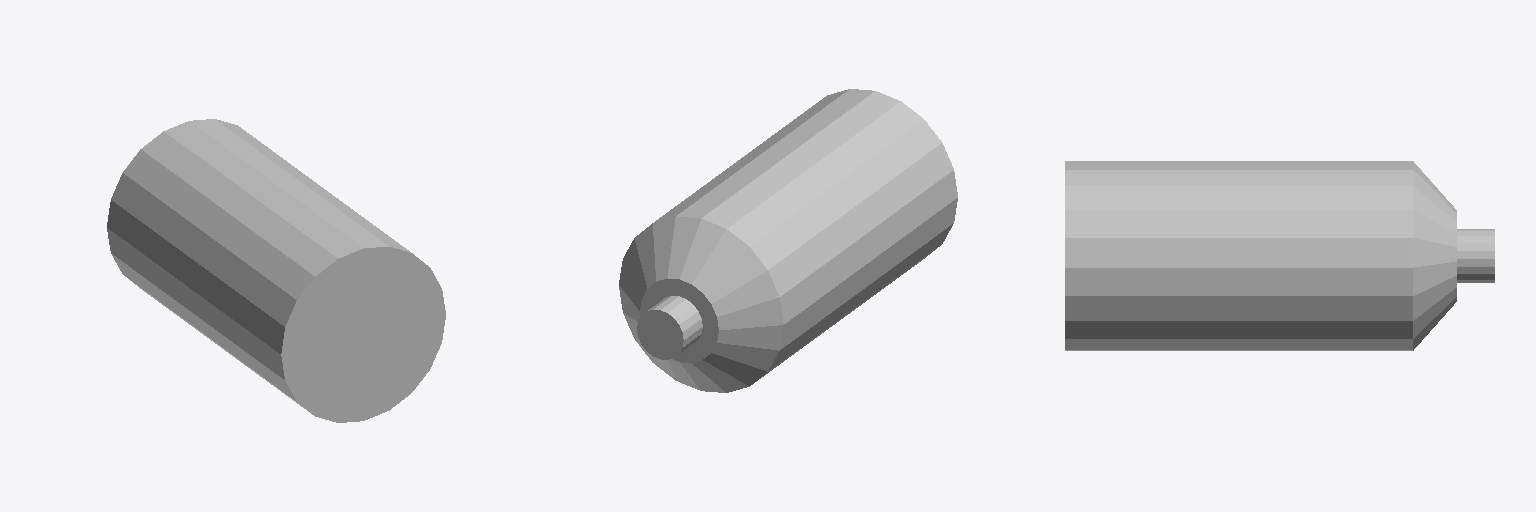
The model's file is SprayCan.obj.
3 renders of one model, left to right at view 1: azimuth 30°, elevation 25°; view 2: azimuth 150°, elevation 25°; view 3: azimuth 270°, elevation 25°, orthographic.
Parts seen in each view (by area): view 1: SprayCan1:headusOBJexport; view 2: SprayCan1:headusOBJexport; view 3: SprayCan1:headusOBJexport.
Part boxes in pixels (left/top/right/bottom): SprayCan1:headusOBJexport: left=107, top=119, right=445, bottom=422; SprayCan1:headusOBJexport: left=619, top=89, right=957, bottom=392; SprayCan1:headusOBJexport: left=1065, top=161, right=1494, bottom=350.
Bounding box in the file's own units: 11.31 × 11.31 × 25.56.